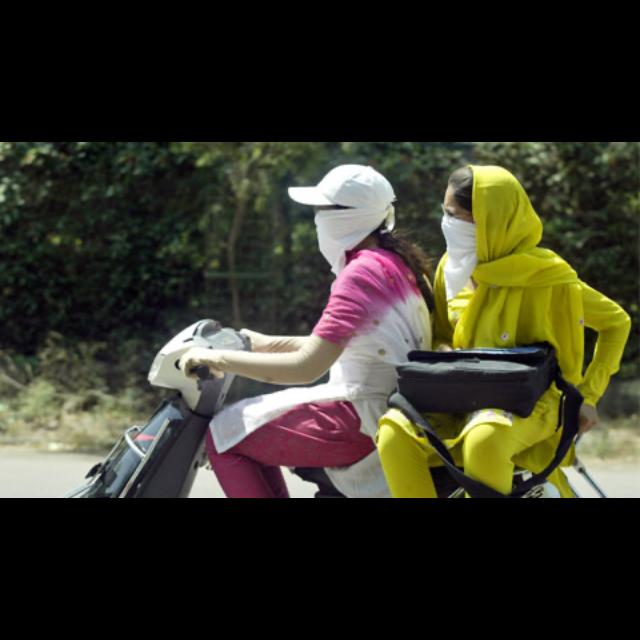Without Helmet: (284, 156, 396, 254), (436, 155, 532, 259)
